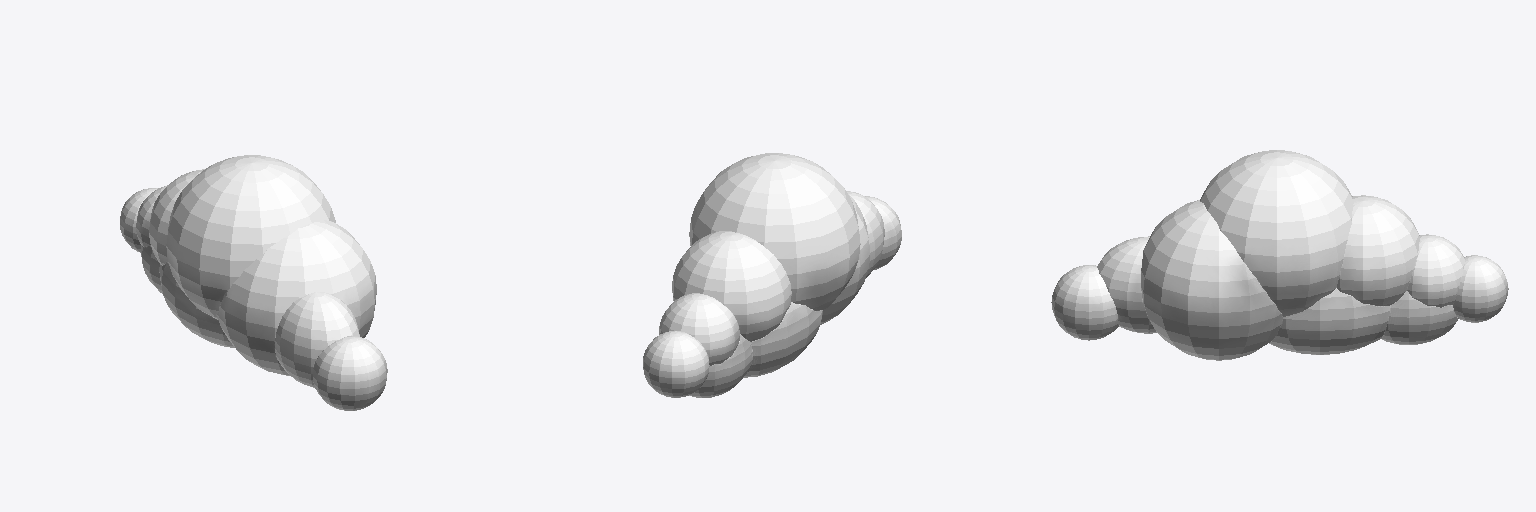
3 views of the same model, side by side, from view 1: azimuth 30°, elevation 25°; view 2: azimuth 150°, elevation 25°; view 3: azimuth 270°, elevation 25° (orthographic).
Visible parts, largest first — view 1: Sphere.006; view 2: Sphere.006; view 3: Sphere.006.
Boxes of the visible parts, <box> form: Sphere.006: <box>120,155,387,410</box>; Sphere.006: <box>643,153,901,397</box>; Sphere.006: <box>1051,150,1508,360</box>.
Bounding box in the file's own units: 29.26 × 33.24 × 72.13.
1 materials, 1 textured.